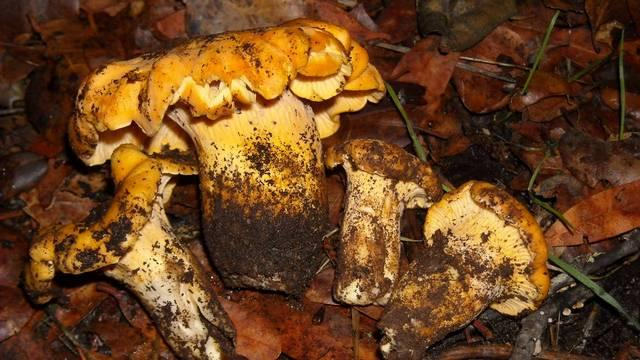edible_mushroom: (65, 17, 387, 298), (375, 178, 550, 358), (323, 136, 443, 307)
